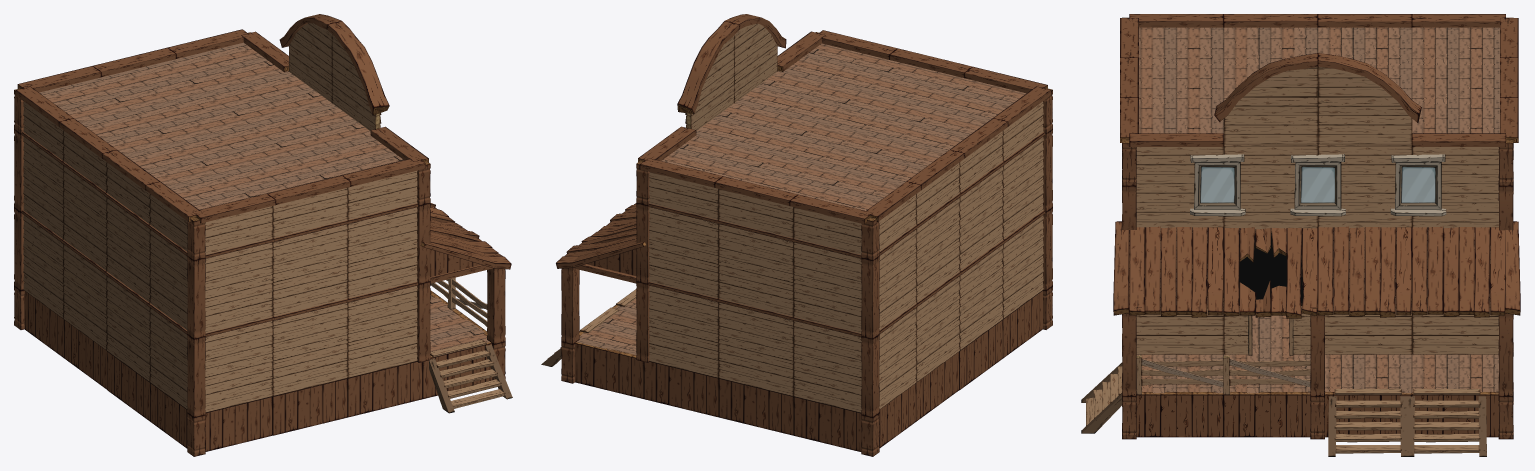
File: domek test 1.fbx
3 views of the same model, side by side, from view 1: azimuth 30°, elevation 25°; view 2: azimuth 150°, elevation 25°; view 3: azimuth 270°, elevation 25° (orthographic). The views are drawn at different scales.
Parts seen in each view (by area): view 1: Fasada drewniane deski poziome2.003, ŚcianaDechySaloon1.037, ŚcianaDechySaloon1.034, ŚcianaDechySaloon1.038, ŚcianaDechySaloon1.035, ŚcianaDechySaloon1.039, ŚcianaDechySaloon1.036, Schody.drewno1.004, ŚcianaDechySaloon1.017, ŚcianaDechySaloon1.019, ŚcianaDechySaloon1.021, ŚcianaDechySaloon1.023 (+58 smaller); view 2: Fasada drewniane deski poziome2.003, ŚcianaDechySaloon1.027, ŚcianaDechySaloon1.024, ŚcianaDechySaloon1.028, ŚcianaDechySaloon1.025, ŚcianaDechySaloon1.029, ŚcianaDechySaloon1.026, ŚcianaDechySaloon1.017, ŚcianaDechySaloon1.019, ŚcianaDechySaloon1.021, ŚcianaDechySaloon1.023, Podłoga.drewno1.050 (+58 smaller); view 3: Fasada drewniane deski poziome2.003, Dach.Drewno1 1/2.009, Dach.Drewno1 1/2.007, Dach.Drewno1 1/2 rozjebany.001, Dach.Drewno1 1/2.010, Schody.drewno1.003, Schody.drewno1.005, Ceglana Sciana1.108, Ceglana Sciana1.105, ŚcianaDechySaloon1.014, ŚcianaDechySaloon1.015, ŚcianaDechySaloon1.005 (+56 smaller).
Boxes of the visible parts, box(x1,y1,x2,y2) form: Fasada drewniane deski poziome2.003: box(279, 14, 389, 129); ŚcianaDechySaloon1.037: box(272, 302, 348, 395); ŚcianaDechySaloon1.034: box(272, 224, 348, 316); ŚcianaDechySaloon1.038: box(347, 286, 417, 377); ŚcianaDechySaloon1.035: box(347, 207, 417, 298); ŚcianaDechySaloon1.039: box(205, 321, 273, 412); ŚcianaDechySaloon1.036: box(205, 242, 273, 333); Schody.drewno1.004: box(429, 339, 512, 413); ŚcianaDechySaloon1.017: box(63, 244, 107, 349); ŚcianaDechySaloon1.019: box(106, 276, 150, 381); ŚcianaDechySaloon1.021: box(63, 166, 107, 270); ŚcianaDechySaloon1.023: box(106, 198, 150, 302); Fasada drewniane deski poziome2.003: box(677, 14, 786, 129); ŚcianaDechySaloon1.027: box(718, 302, 793, 396); ŚcianaDechySaloon1.024: box(718, 224, 793, 316); ŚcianaDechySaloon1.028: box(649, 286, 718, 377); ŚcianaDechySaloon1.025: box(649, 207, 718, 298); ŚcianaDechySaloon1.029: box(793, 321, 861, 412); ŚcianaDechySaloon1.026: box(793, 242, 861, 333); ŚcianaDechySaloon1.017: box(916, 276, 960, 381); ŚcianaDechySaloon1.019: box(959, 245, 1003, 350); ŚcianaDechySaloon1.021: box(916, 198, 960, 302); ŚcianaDechySaloon1.023: box(959, 166, 1003, 270); Podłoga.drewno1.050: box(764, 121, 881, 170); Fasada drewniane deski poziome2.003: box(1214, 53, 1421, 144); Dach.Drewno1 1/2.009: box(1317, 226, 1411, 317); Dach.Drewno1 1/2.007: box(1129, 226, 1223, 317); Dach.Drewno1 1/2 rozjebany.001: box(1223, 227, 1317, 318); Dach.Drewno1 1/2.010: box(1411, 226, 1505, 317); Schody.drewno1.003: box(1328, 389, 1408, 456); Schody.drewno1.005: box(1406, 389, 1486, 456); Ceglana Sciana1.108: box(1223, 392, 1310, 437); Ceglana Sciana1.105: box(1136, 392, 1223, 437); ŚcianaDechySaloon1.014: box(1325, 272, 1412, 354); ŚcianaDechySaloon1.015: box(1136, 272, 1223, 354); ŚcianaDechySaloon1.005: box(1412, 272, 1498, 354).
Bounding box in the file's own units: 1384 × 1195 × 1399.
